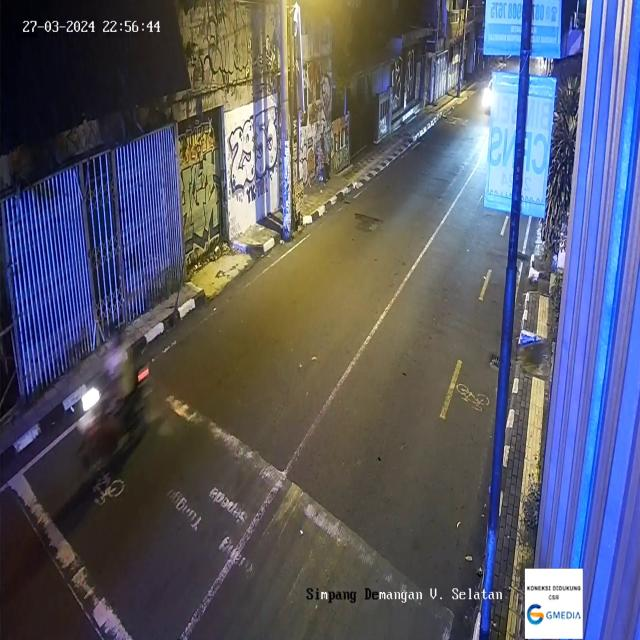motorcycle: (73, 315, 149, 477)
